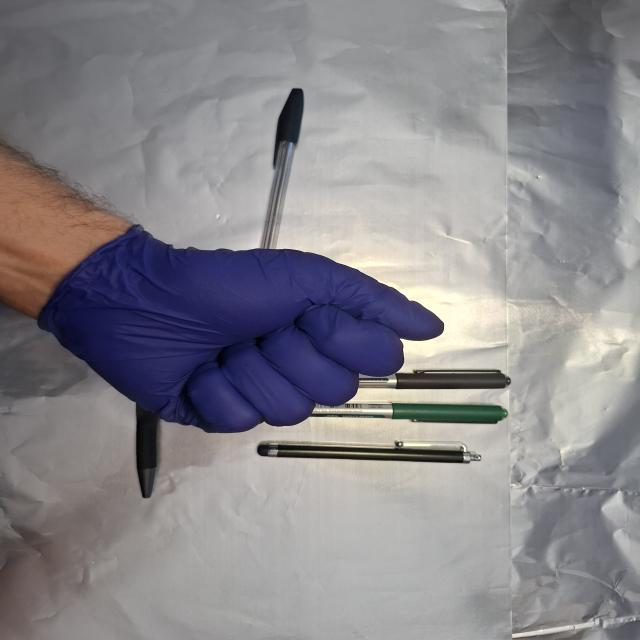glove_on: (43, 225, 450, 436)
